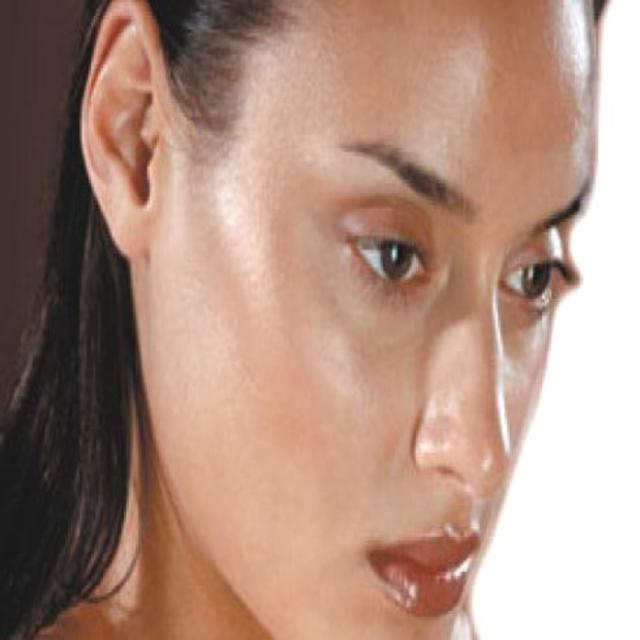Oily-Skin: (217, 164, 276, 335), (549, 0, 589, 105), (446, 21, 494, 104), (324, 314, 364, 410)
